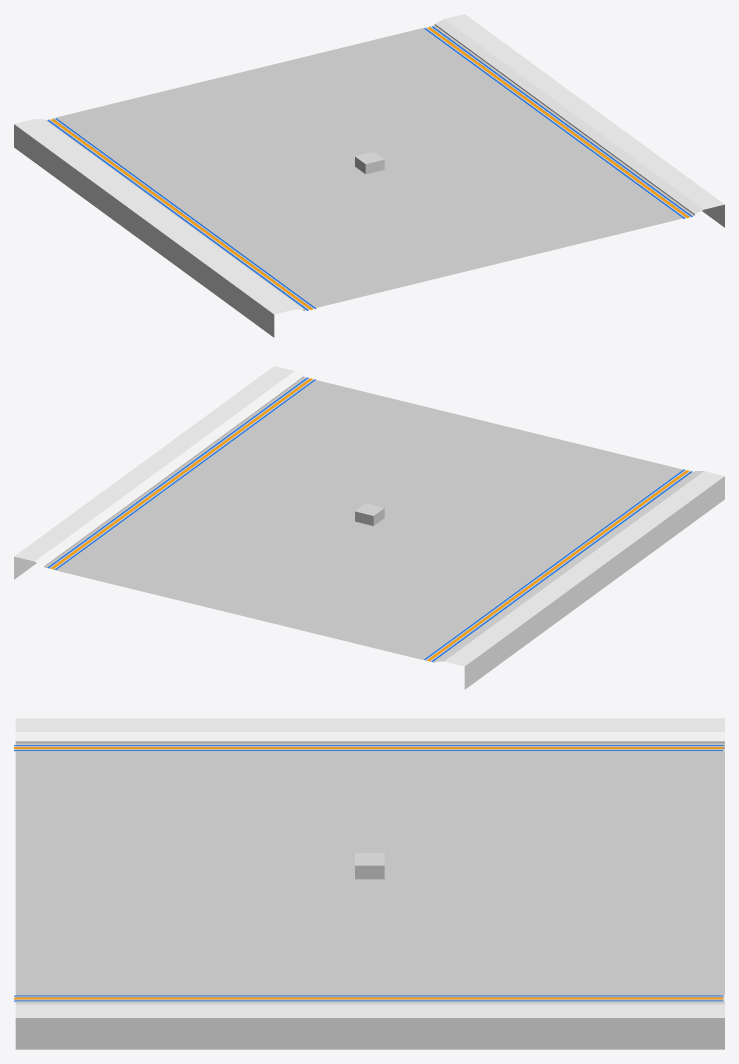
3 renders of one model, top to bottom at view 1: azimuth 30°, elevation 25°; view 2: azimuth 150°, elevation 25°; view 3: azimuth 270°, elevation 25°, orthographic. The views are drawn at different scales.
Parts seen in each view (by area): view 1: Track, Cube; view 2: Track; view 3: Track, Cube.
Boxes of the visible parts, x1=… form: Track: x1=14, y1=14, x2=724, y2=337; Cube: x1=355, y1=152, x2=384, y2=174; Track: x1=14, y1=366, x2=724, y2=689; Track: x1=14, y1=718, x2=724, y2=1049; Cube: x1=355, y1=853, x2=384, y2=879.
Size of what is drawn, in the model's own units: 24 by 1.52 by 24.06.
